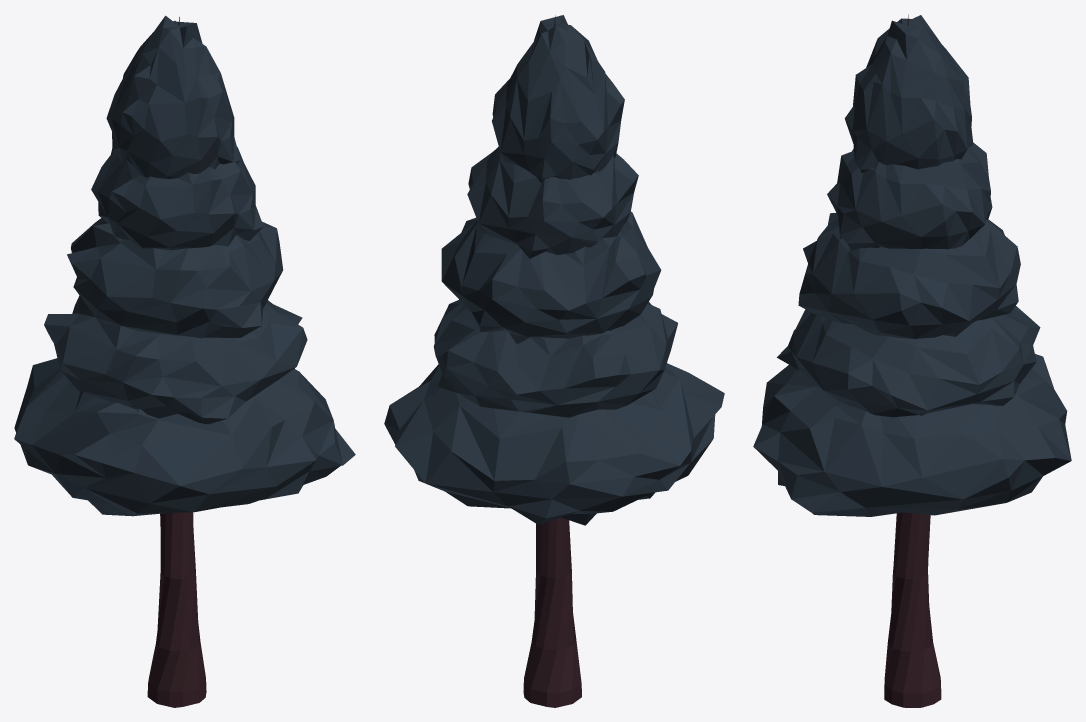
Rendered from tree4.glb.
The picture shows the model from 3 angles, left to right: view 1: azimuth 30°, elevation 25°; view 2: azimuth 150°, elevation 25°; view 3: azimuth 270°, elevation 25°; orthographic projection.
Parts seen in each view (by area): view 1: tree4; view 2: tree4; view 3: tree4.
Part boxes in pixels (bbox=[...]): tree4: bbox=[14, 15, 355, 707]; tree4: bbox=[384, 15, 724, 707]; tree4: bbox=[753, 14, 1071, 707].
Size of the model in its own units: 7.22 by 17.12 by 7.15.
Materials: 1 (1 with a texture image).
